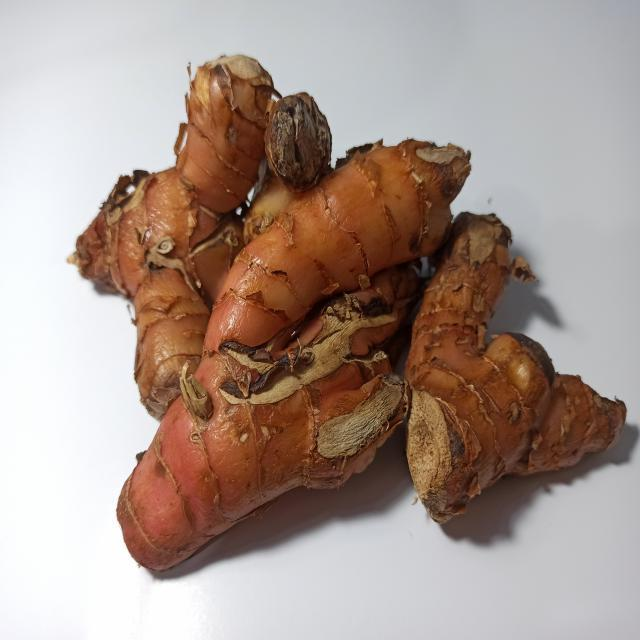ginger: (79, 50, 624, 536)
